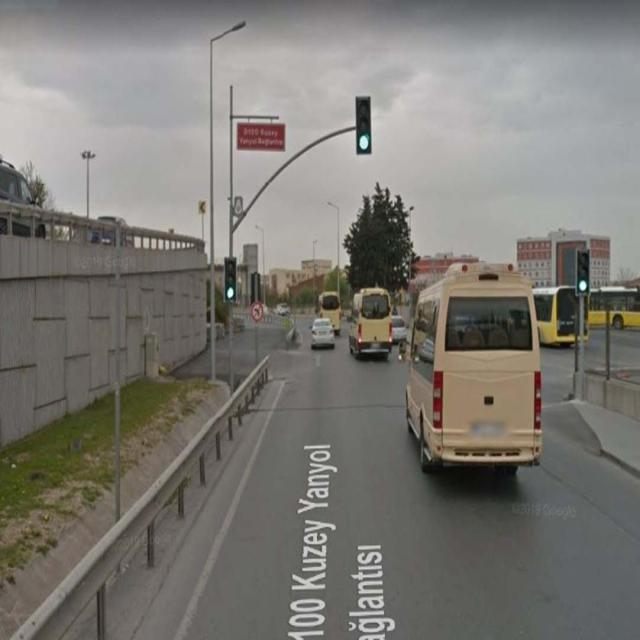soladonulmez: (251, 302, 264, 321)
yesil: (356, 95, 372, 156), (575, 249, 591, 296), (224, 258, 236, 303)
